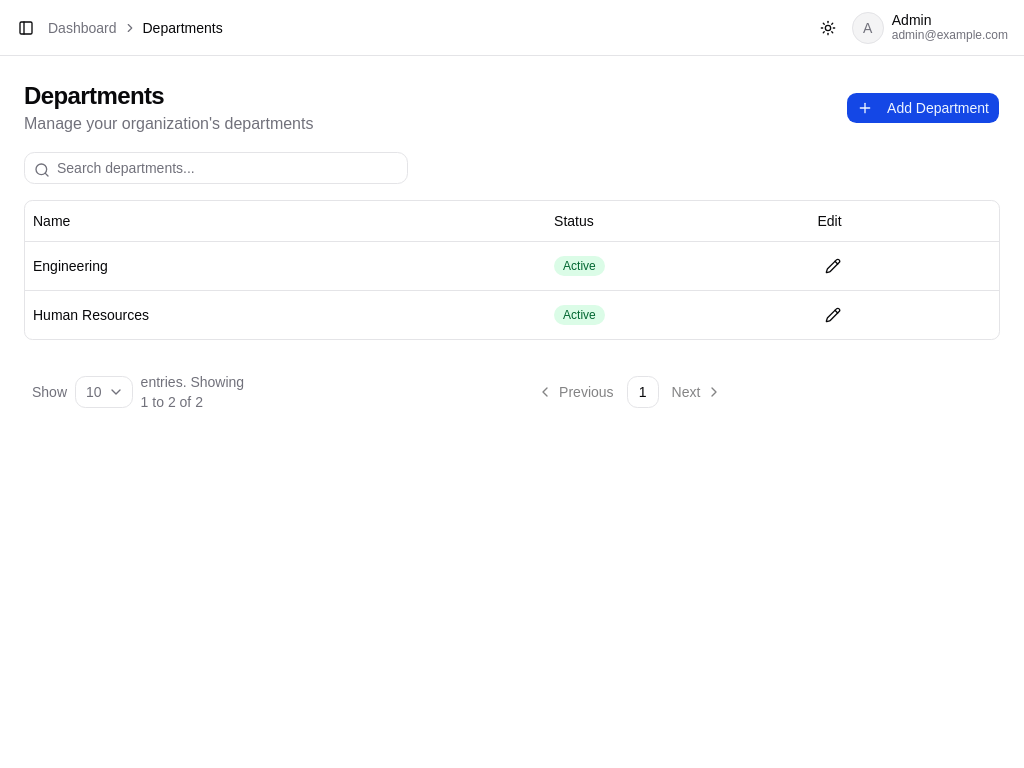
Departments page › opens Add Department dialog and shows validation error for short name
This screenshot has width=1024, height=768.
Click the button "Add Department" at coordinates (923, 108), box x1=846 y1=92 x2=1000 y2=124
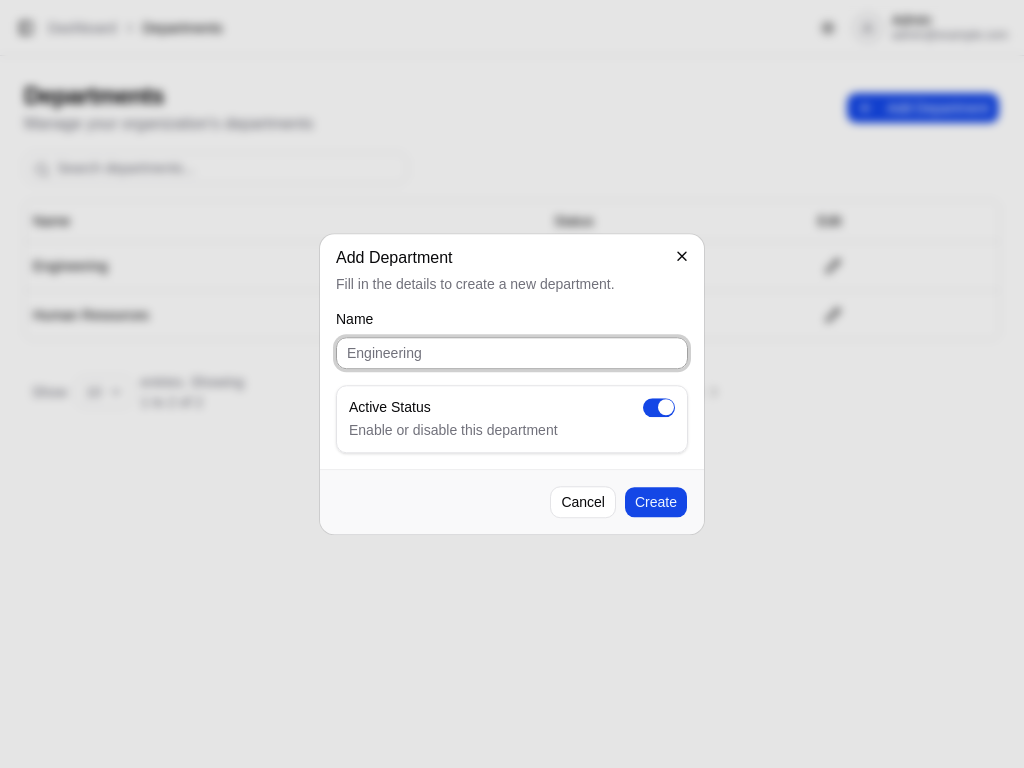
Now the dialog "Add Department" is shown, box x1=320 y1=234 x2=704 y2=534
Type "A" into the field with placeholder "Engineering" at coordinates (512, 354), box x1=336 y1=338 x2=688 y2=370
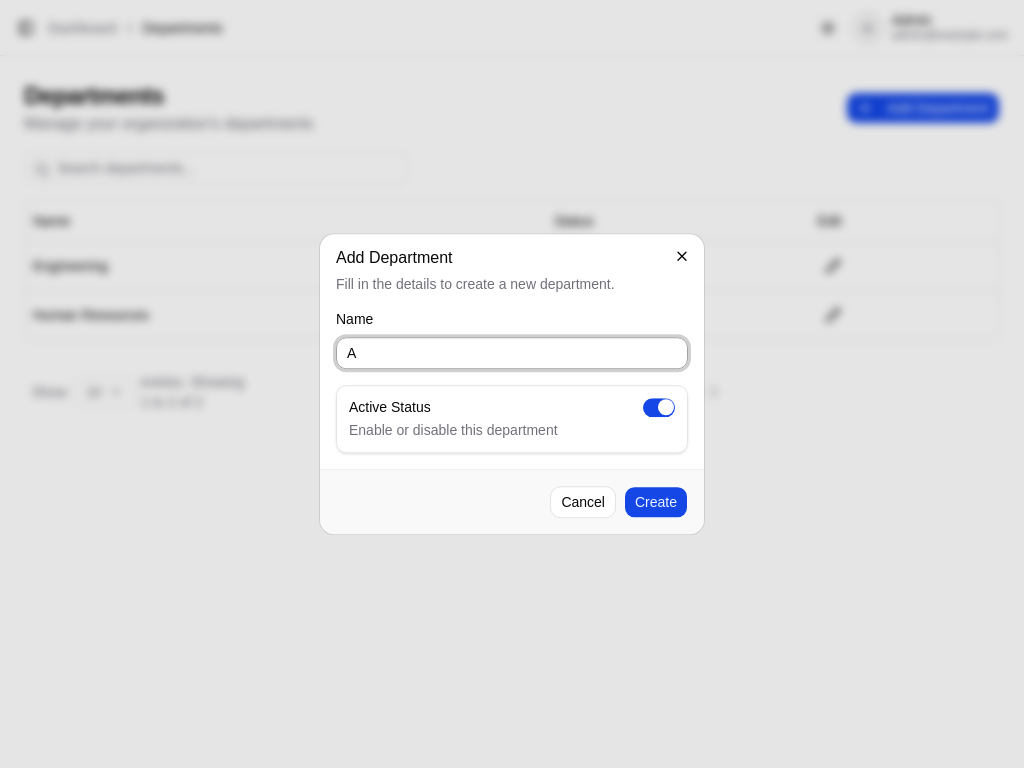
Click the button "Create" at coordinates (656, 502), box x1=624 y1=486 x2=688 y2=518
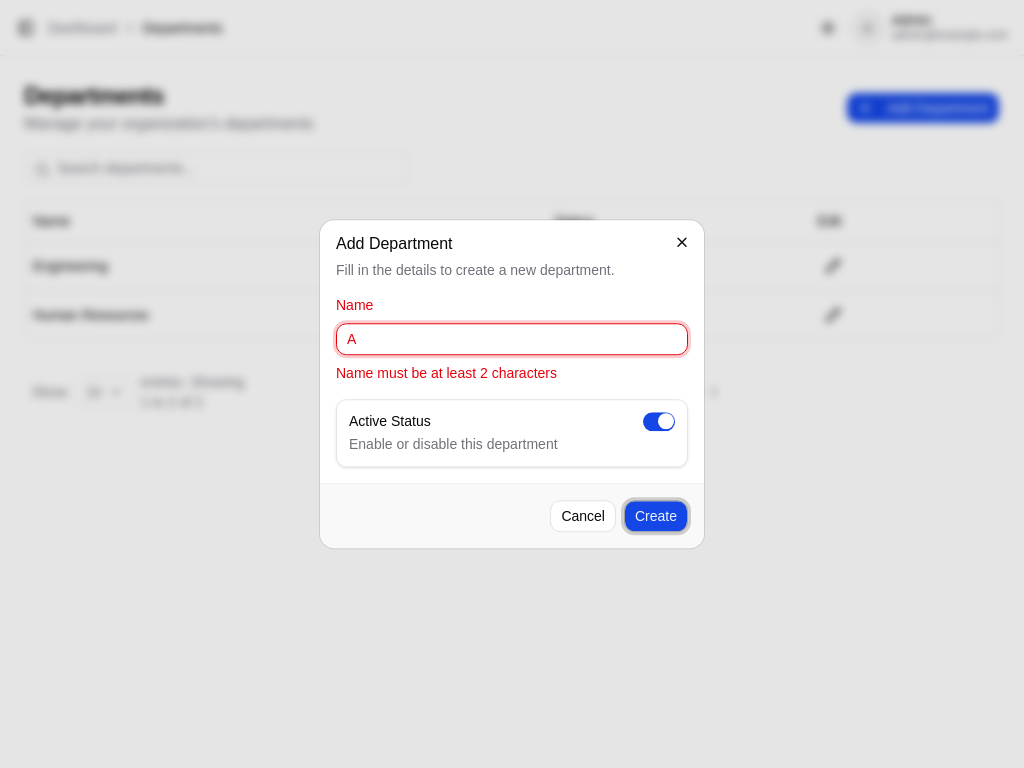
Now the text "Name must be at least 2 characters" is shown, box x1=336 y1=366 x2=557 y2=382
